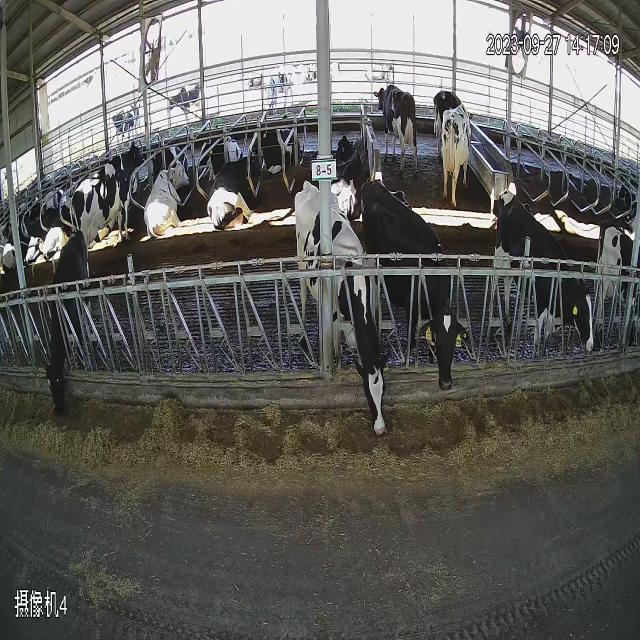drinking: (431, 66, 478, 208)
feeding: (288, 162, 401, 442), (34, 228, 102, 422)
lying down: (316, 95, 371, 234), (204, 142, 256, 246), (19, 164, 53, 292), (252, 100, 302, 182), (40, 168, 76, 274), (146, 154, 184, 249), (2, 172, 25, 294), (149, 120, 186, 187), (196, 116, 230, 180), (611, 166, 640, 234)
standing: (390, 164, 477, 431), (492, 178, 600, 393), (70, 130, 142, 250), (366, 59, 421, 172), (244, 42, 309, 112), (154, 68, 218, 128), (85, 89, 151, 132)
